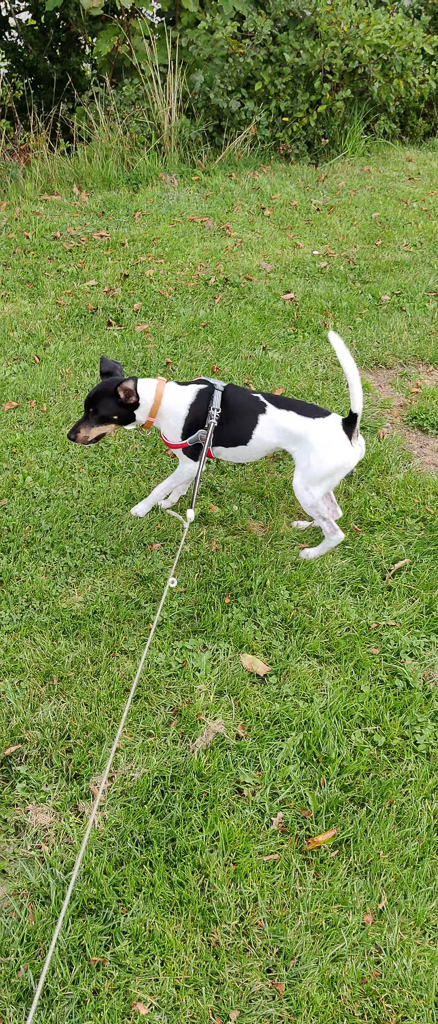Dog: (62, 319, 388, 571)
